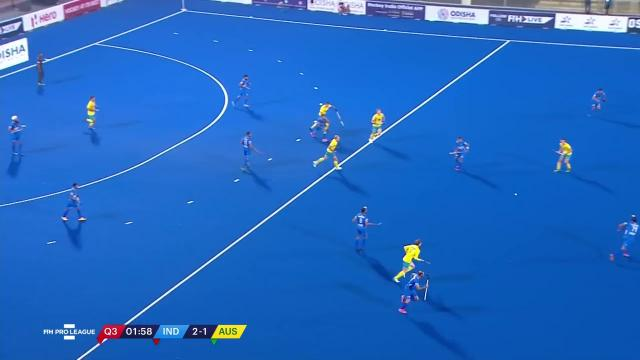ball: (512, 192, 520, 197)
